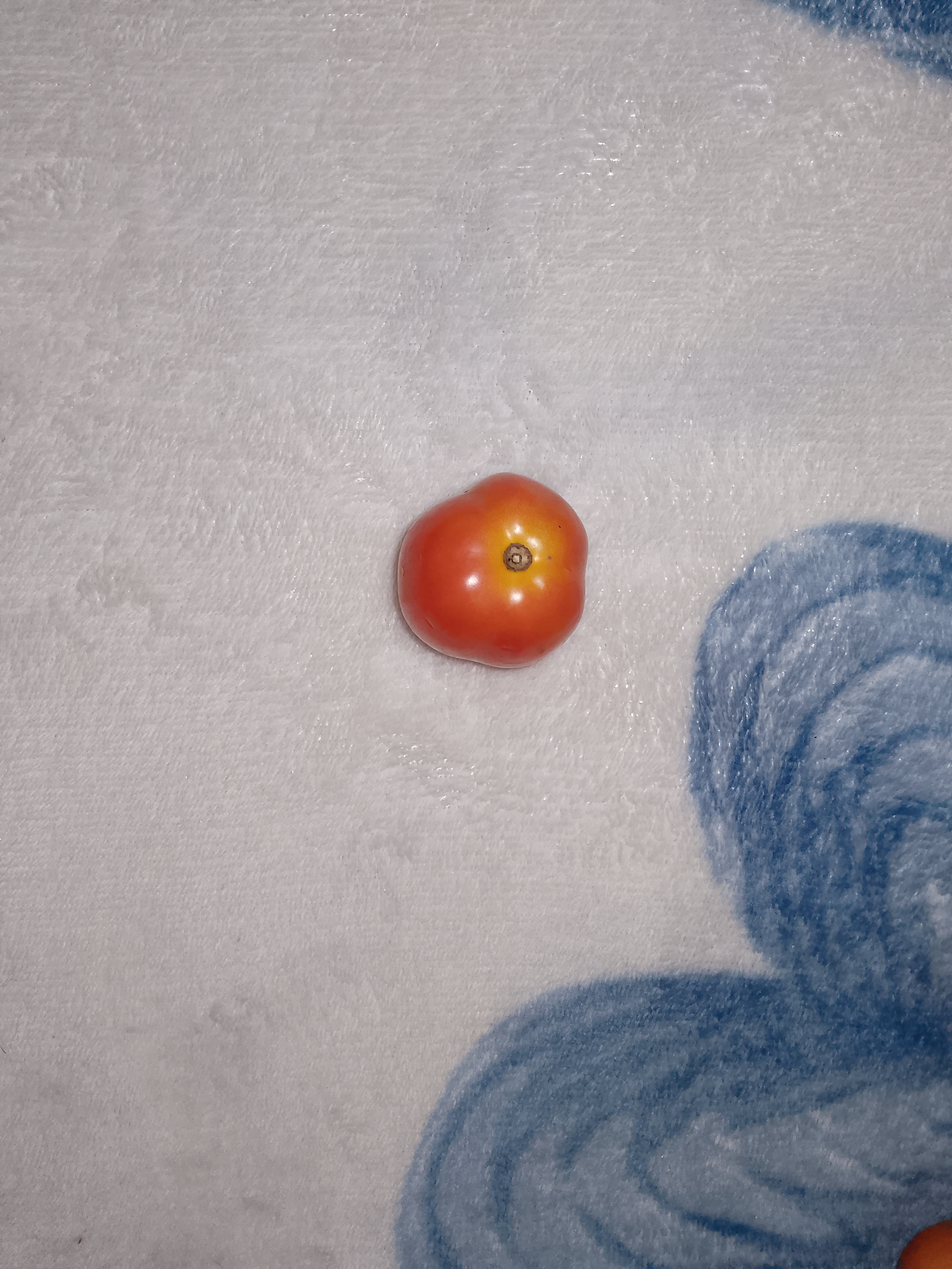Ripe: (280, 441, 657, 706)
